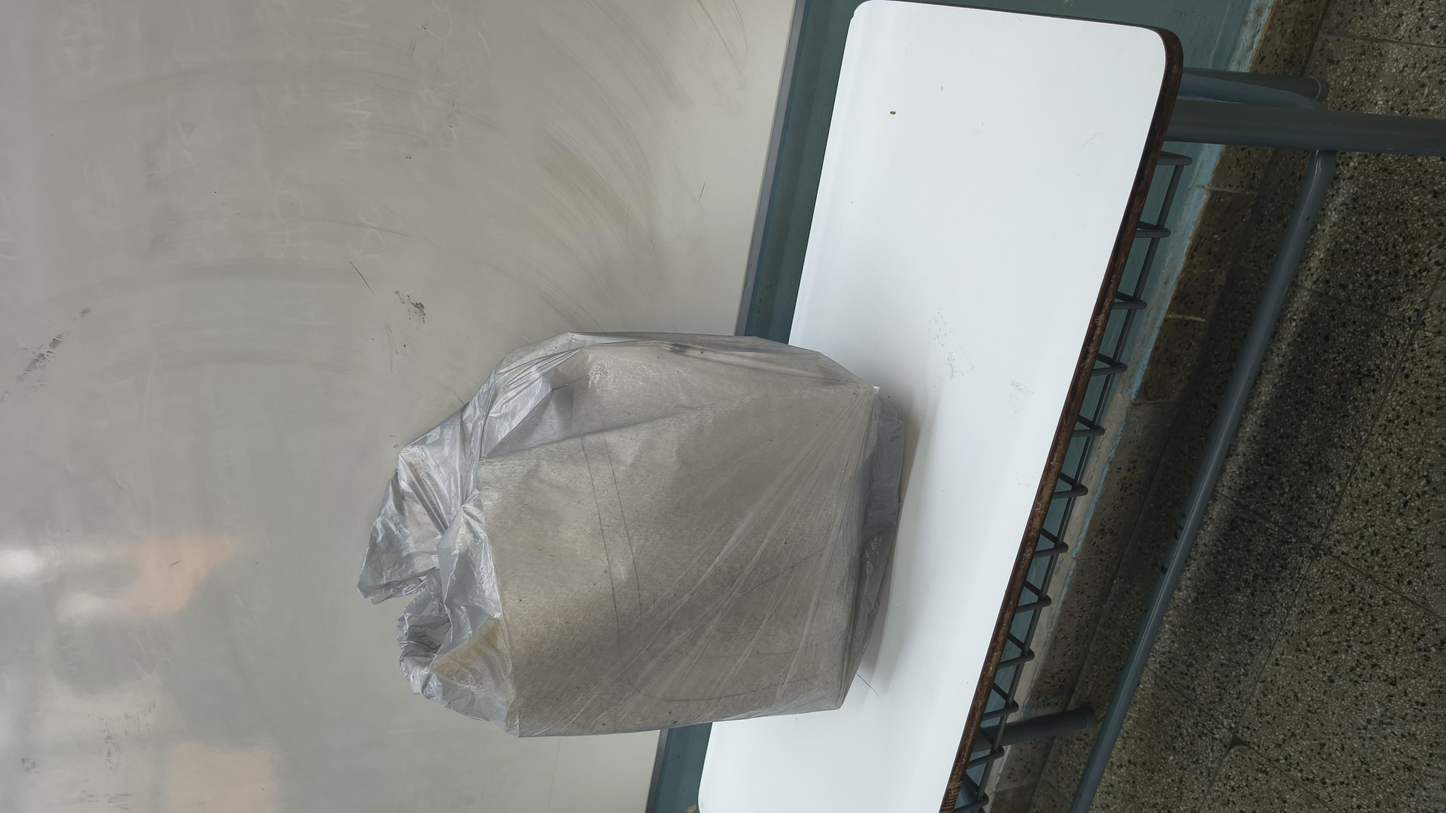Garbage: (82, 175, 973, 530)
